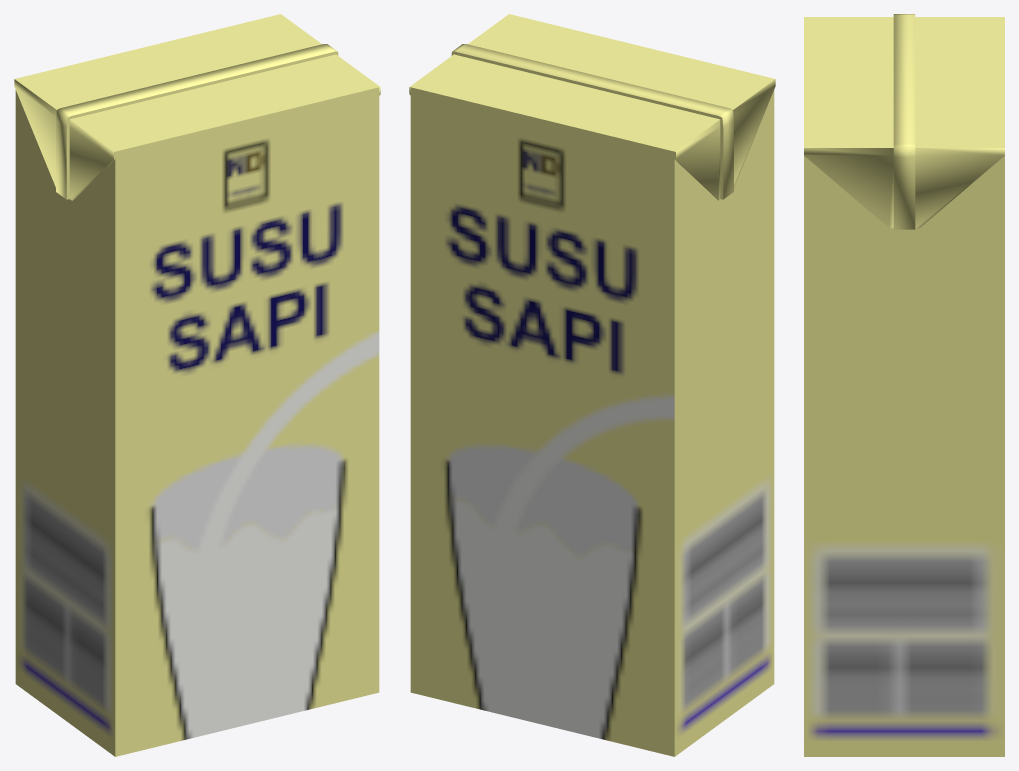
File: Shelves_Assets_Drinks_SusuSapi.fbx
The picture shows the model from 3 angles, left to right: view 1: azimuth 30°, elevation 25°; view 2: azimuth 150°, elevation 25°; view 3: azimuth 270°, elevation 25°; orthographic projection.
Visible parts, largest first — view 1: Shelves_Assets_Drinks_SusuSapi; view 2: Shelves_Assets_Drinks_SusuSapi; view 3: Shelves_Assets_Drinks_SusuSapi.
Part boxes in pixels (x1,y1,x2,y2): Shelves_Assets_Drinks_SusuSapi: [14, 14, 380, 756]; Shelves_Assets_Drinks_SusuSapi: [409, 14, 775, 756]; Shelves_Assets_Drinks_SusuSapi: [804, 14, 1004, 756].
Bounding box in the file's own units: 14.87 × 31.76 × 9.43.
